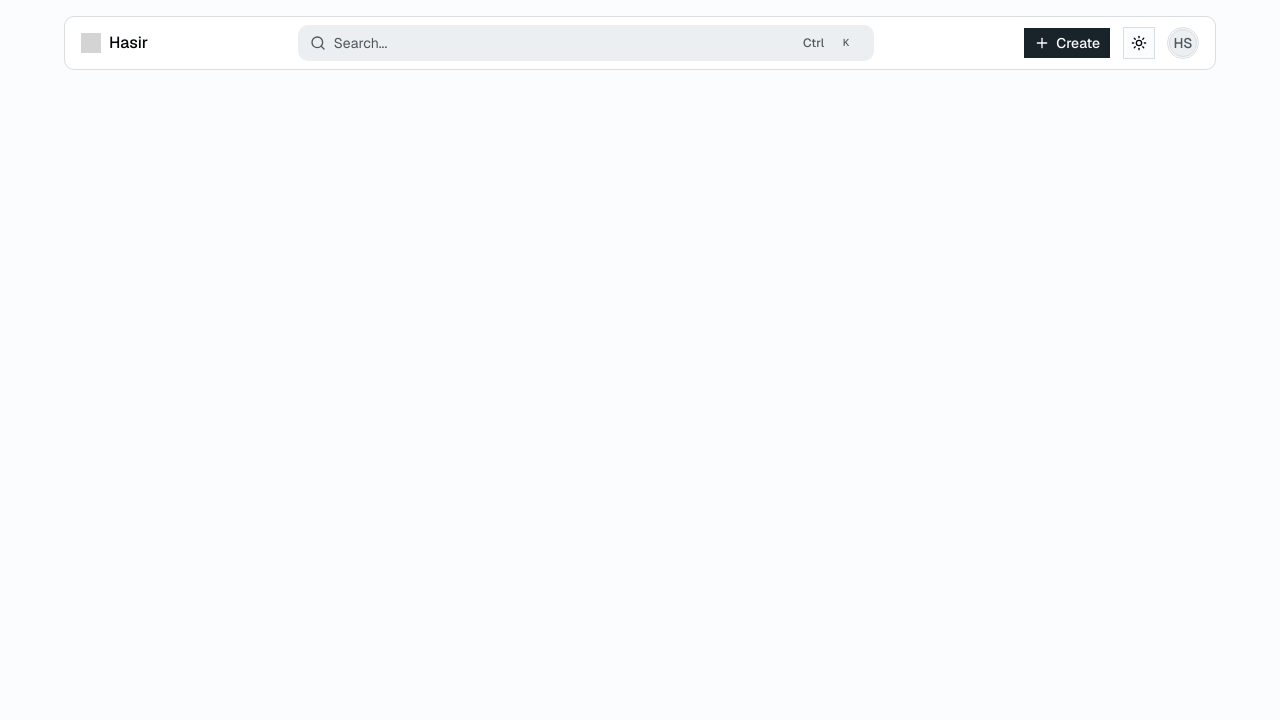
Test case: Header › opens the create repository dialog with name and visibility fields
This screenshot has width=1280, height=720.
Step 1. Click the button "Create" → (1067, 43), box 1023,27 -> 1111,59
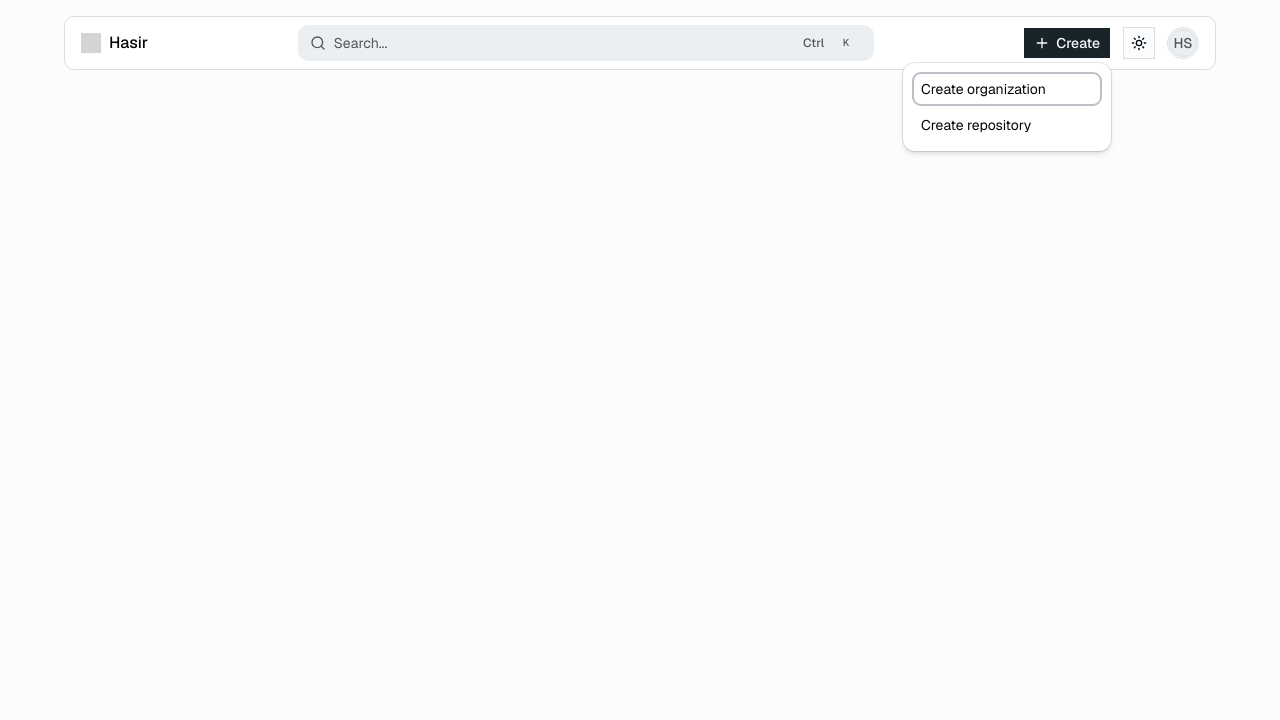
Step 2. Click the button "Create repository" → (1007, 125), box 913,109 -> 1101,141
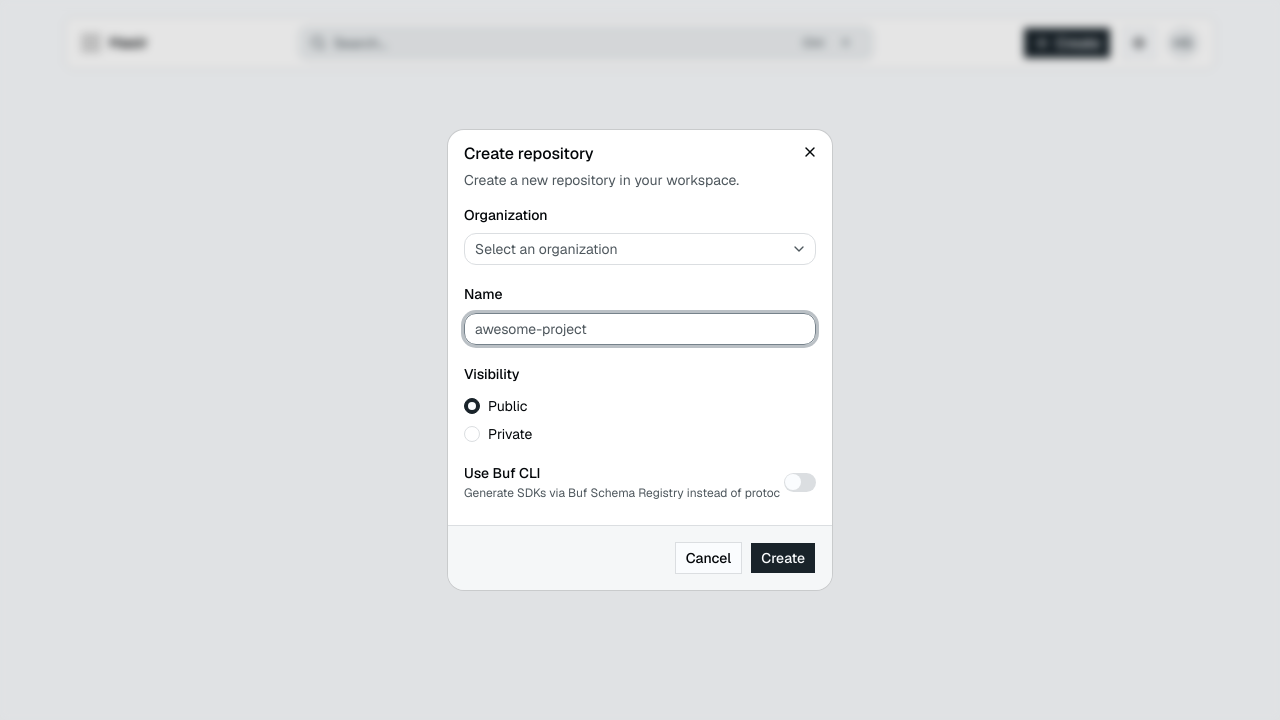
Check: the heading "Create repository" is shown, box 464,143 -> 594,164
Check: the field labelled "Name" is shown, box 464,312 -> 816,344
Check: the radio button named "public" next to "Public" is shown, box 464,398 -> 480,414
